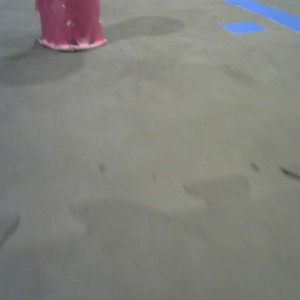middle: (35, 1, 107, 49)
